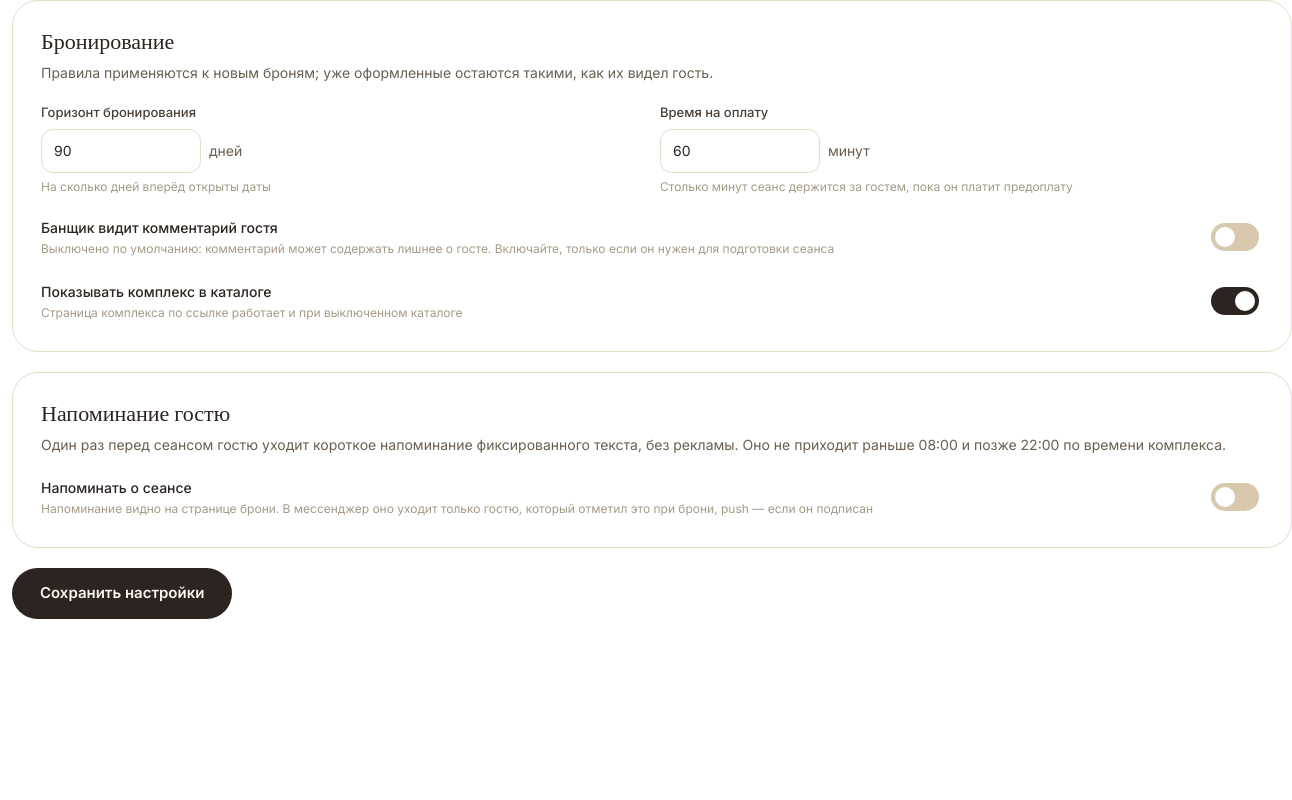
Test case: BookingRulesCard reminder › shows an error about hours in the form when the hours field is hidden
The image size is (1292, 800).
Step 1. Click the button "Сохранить настройки" → (122, 593), box [12,568,232,618]
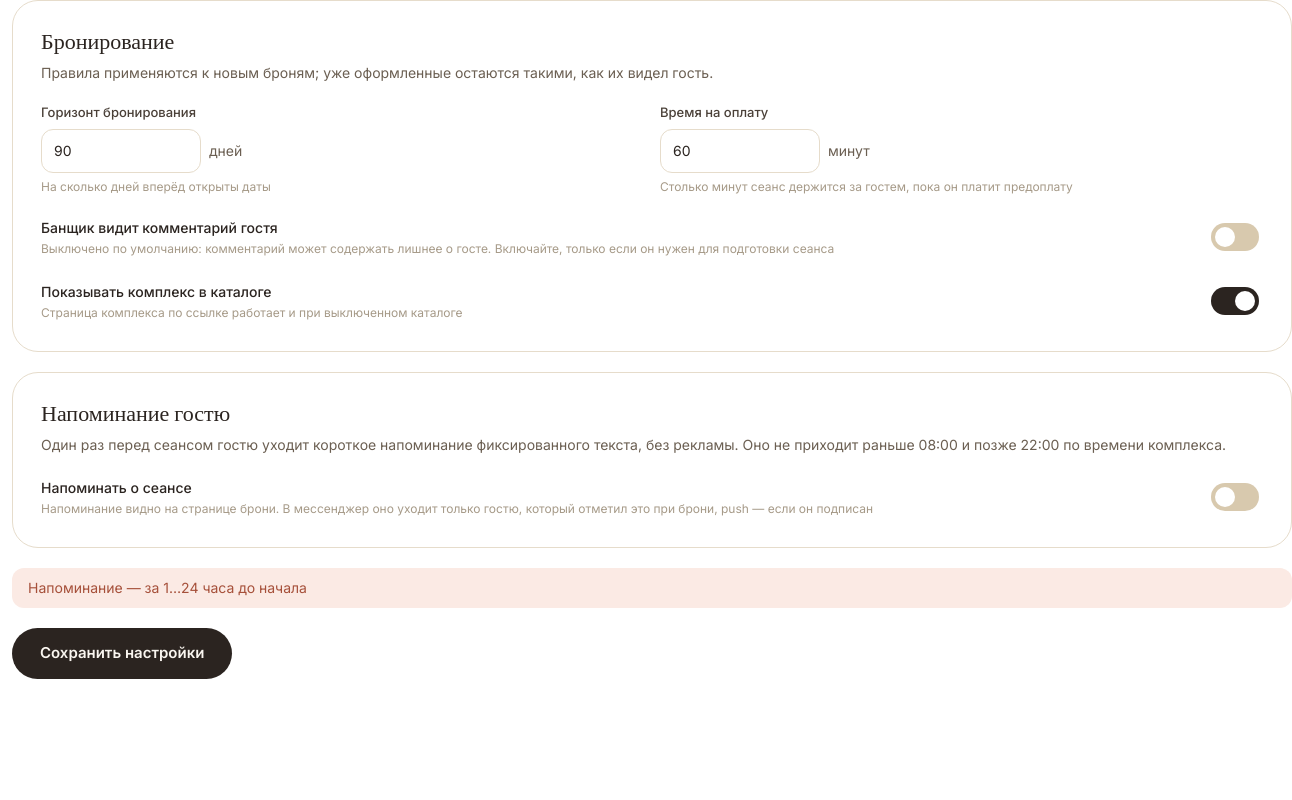
Expected: the text "Напоминание — за 1…24 часа до начала" is shown, [12,568,1291,608]
